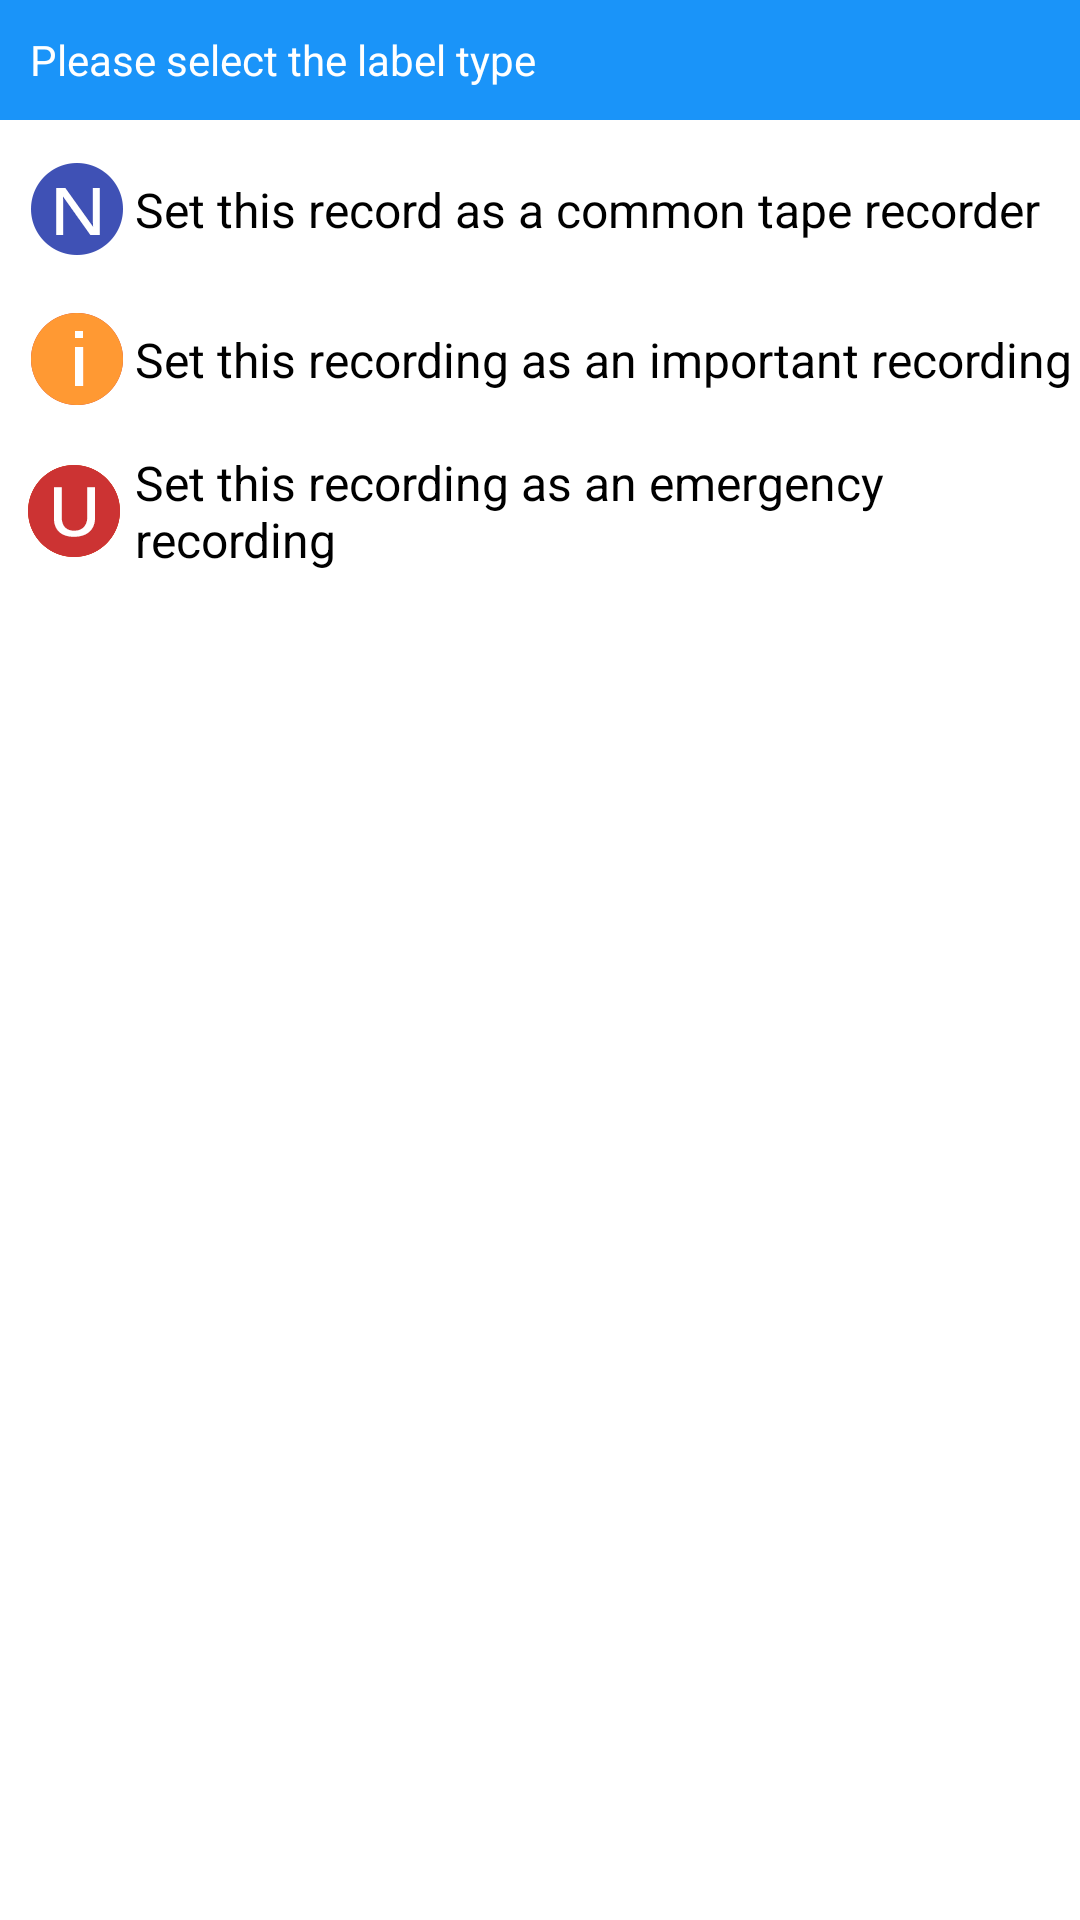

Locate icon controls on the screen. Image size 1080*1920, boxes as {"x1": x1, "y1": y1, "x2": x2, "y2": y2}.
inprotant: {"x1": 31, "y1": 313, "x2": 123, "y2": 405}
nomal: {"x1": 31, "y1": 163, "x2": 123, "y2": 255}
urgent: {"x1": 28, "y1": 465, "x2": 120, "y2": 557}
